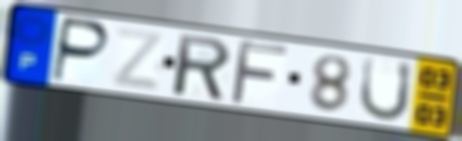8: (308, 53, 354, 114)
F: (227, 37, 291, 108)
P: (49, 15, 113, 86)
R: (173, 32, 234, 104)
U: (356, 54, 415, 123)
Z: (110, 25, 167, 94)
